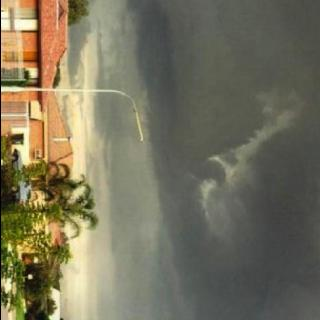Stratocumulus: (62, 0, 320, 320)
